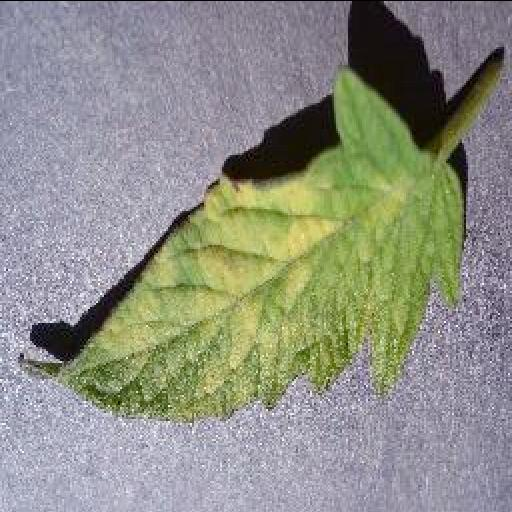disease_tomato: (14, 66, 464, 422)
